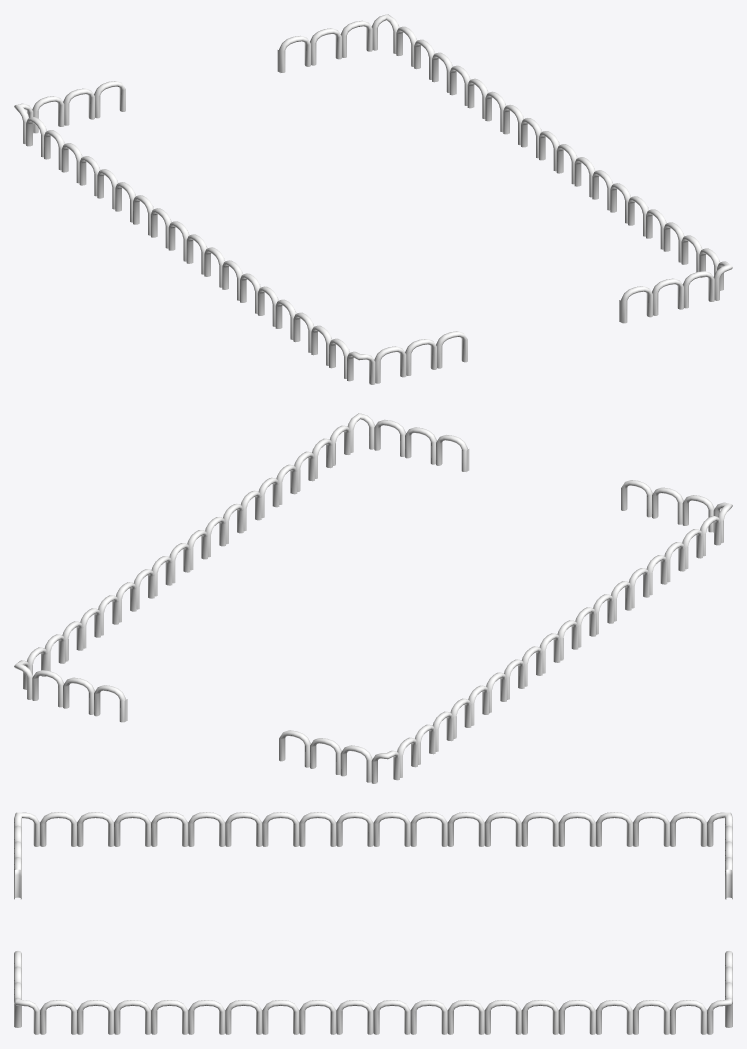
The model's file is Stade.fbx.
3 renders of one model, top to bottom at view 1: azimuth 30°, elevation 25°; view 2: azimuth 150°, elevation 25°; view 3: azimuth 270°, elevation 25°, orthographic. The views are drawn at different scales.
Visible parts, largest first — view 1: Cylinder; view 2: Cylinder; view 3: Cylinder.
Part boxes in pixels (left/top/right/bottom): Cylinder: left=14, top=14, right=732, bottom=384; Cylinder: left=14, top=413, right=732, bottom=783; Cylinder: left=14, top=812, right=732, bottom=1034.
Size of the model in its own units: 2427 by 1527 by 123.
